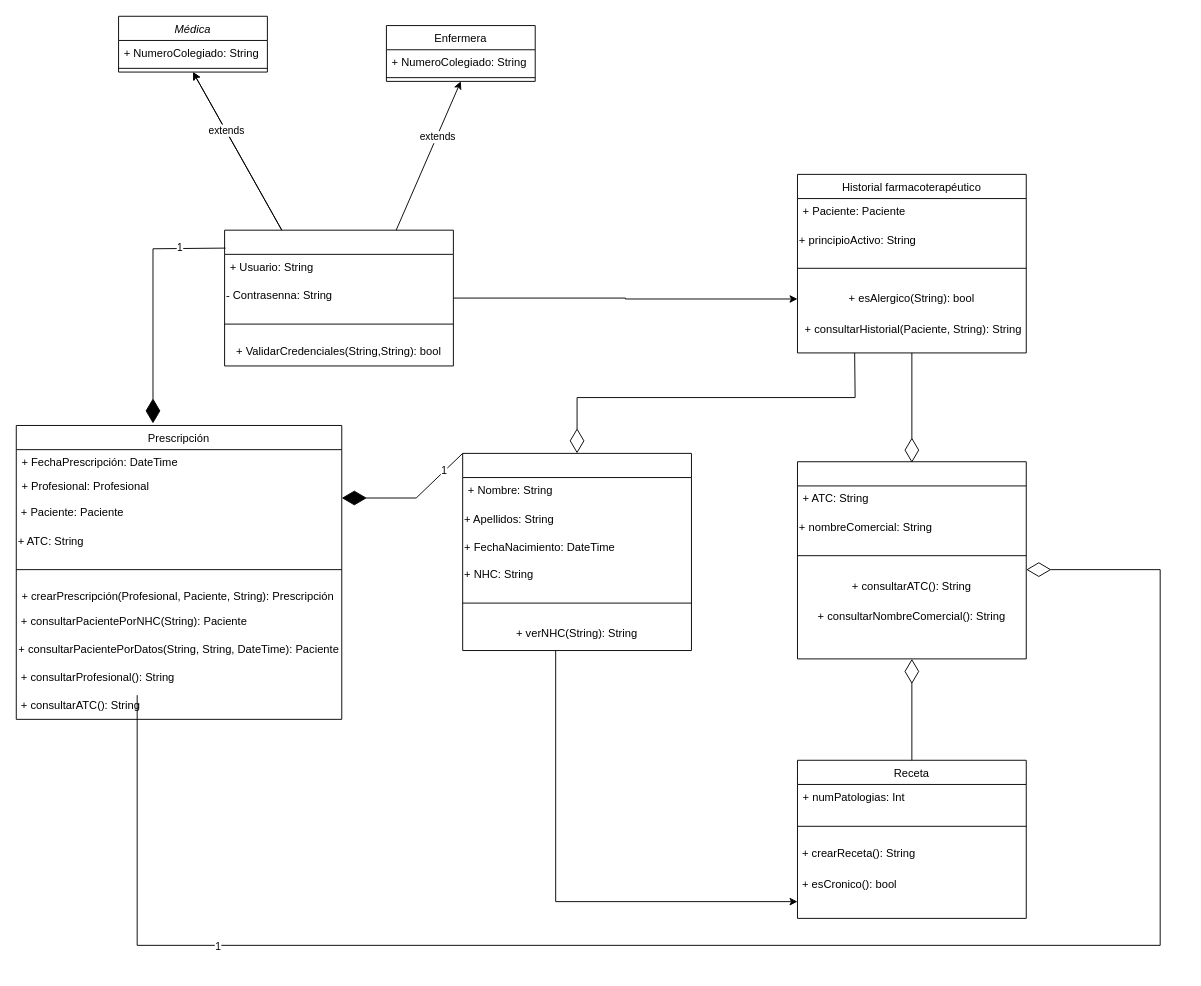
The diagram is 1201 pixels wide and 986 high, and some of its shapes have lost their labels. The shapes that lost their labels are listed below. From the top down, each one's box as (x1, y1, x2, y2) in pixels, then its label:
(224, 229, 453, 366): Profesional
(462, 452, 691, 651): Paciente
(797, 461, 1026, 659): Fármaco
